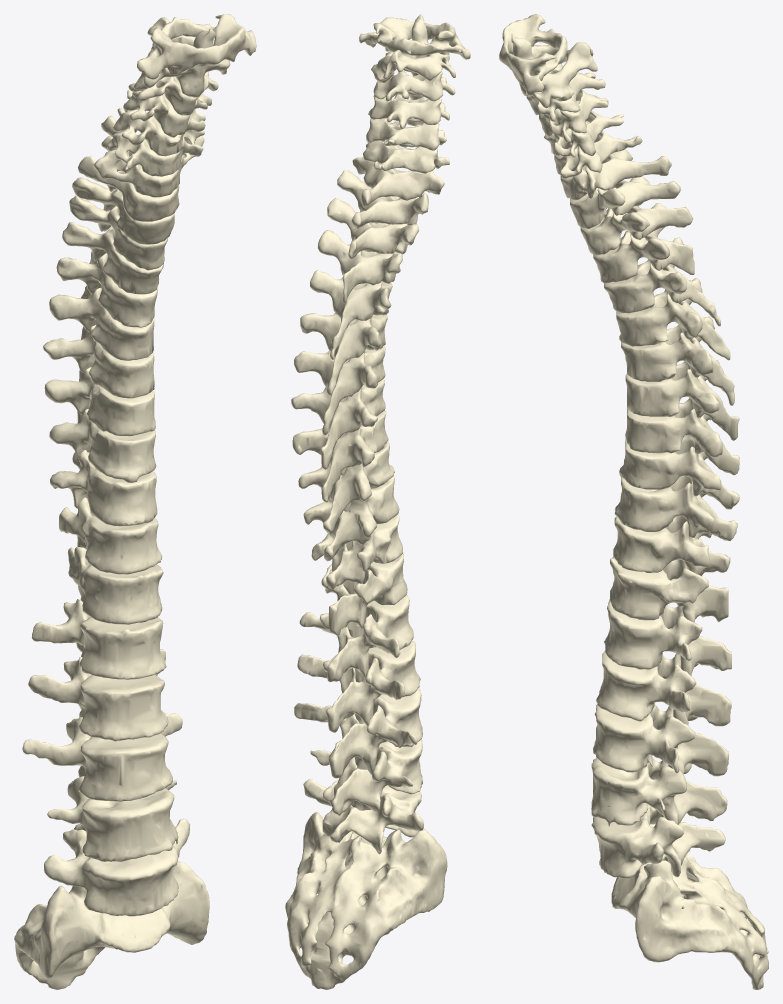
Rendered from spine.glb.
3 views of the same model, side by side, from view 1: azimuth 30°, elevation 25°; view 2: azimuth 150°, elevation 25°; view 3: azimuth 270°, elevation 25° (orthographic). The views are drawn at different scales.
Visible parts, largest first — view 1: Sacrum_beige_0, l3_beige_0, l5_beige_0, l2_beige_0, l4_beige_0, l1_beige_0, t12_beige_0, t11_beige_0, t10_beige_0, c1_beige_0, t9_beige_0, t8_beige_0 (+13 smaller); view 2: Sacrum_beige_0, l3_beige_0, l2_beige_0, l4_beige_0, l1_beige_0, l5_beige_0, t12_beige_0, t10_beige_0, t11_beige_0, t7_beige_0, t8_beige_0, t6_beige_0 (+13 smaller); view 3: Sacrum_beige_0, l3_beige_0, l4_beige_0, l2_beige_0, l1_beige_0, l5_beige_0, t12_beige_0, t10_beige_0, t11_beige_0, t8_beige_0, t9_beige_0, t7_beige_0 (+13 smaller).
Part boxes in pixels (x1,y1,x2,y2): Sacrum_beige_0: (14,861,209,989); l3_beige_0: (22,713,182,801); l5_beige_0: (44,818,189,916); l2_beige_0: (28,649,168,741); l4_beige_0: (47,776,178,861); l1_beige_0: (31,599,166,679); t12_beige_0: (68,546,163,624); t11_beige_0: (59,497,162,574); t10_beige_0: (50,450,157,526); c1_beige_0: (137,14,256,79); t9_beige_0: (49,409,156,482); t8_beige_0: (44,367,155,436); Sacrum_beige_0: (285,812,447,989); l3_beige_0: (294,688,422,778); l2_beige_0: (297,640,420,732); l4_beige_0: (310,740,422,816); l1_beige_0: (299,594,413,681); l5_beige_0: (303,779,423,854); t12_beige_0: (321,553,407,635); t10_beige_0: (303,476,399,561); t11_beige_0: (311,514,402,589); t7_beige_0: (291,378,385,469); t8_beige_0: (292,410,388,502); t6_beige_0: (294,345,385,435); Sacrum_beige_0: (611,824,768,989); l3_beige_0: (593,704,728,776); l4_beige_0: (591,756,727,826); l2_beige_0: (596,651,731,726); l1_beige_0: (604,599,731,675); l5_beige_0: (591,805,725,878); t12_beige_0: (610,556,728,622); t10_beige_0: (614,476,737,540); t11_beige_0: (613,515,730,574); t8_beige_0: (625,398,739,475); t9_beige_0: (619,435,739,509); t7_beige_0: (625,360,739,440).
Size of the model in its own units: 0.1028 by 0.6323 by 0.1607.
